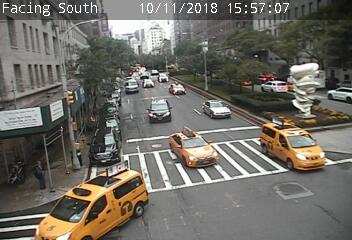car: (260, 122, 325, 172), (170, 132, 218, 167), (202, 100, 231, 118), (148, 99, 170, 122), (168, 83, 185, 94), (158, 73, 168, 82), (143, 79, 154, 87)
